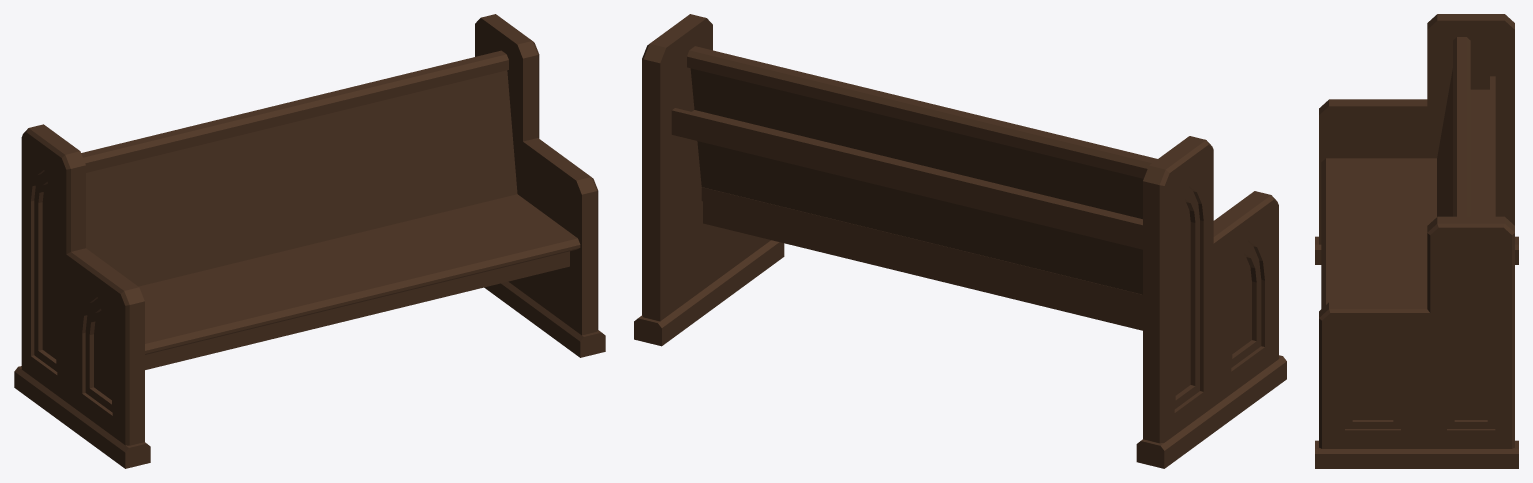
The model's file is church-pew-dae6d7.glb.
3 renders of one model, left to right at view 1: azimuth 30°, elevation 25°; view 2: azimuth 150°, elevation 25°; view 3: azimuth 270°, elevation 25°, orthographic. The views are drawn at different scales.
Parts seen in each view (by area): view 1: pew-body; view 2: pew-body; view 3: pew-body.
Boxes of the visible parts, x1,y1,x2,y2 form: pew-body: (14,14,605,468); pew-body: (634,14,1286,468); pew-body: (1315,14,1518,468).
Bounding box in the file's own units: 2 × 1.05 × 0.8.
